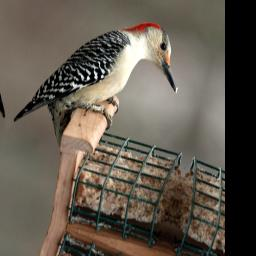Woodpecker: (10, 0, 192, 182)
